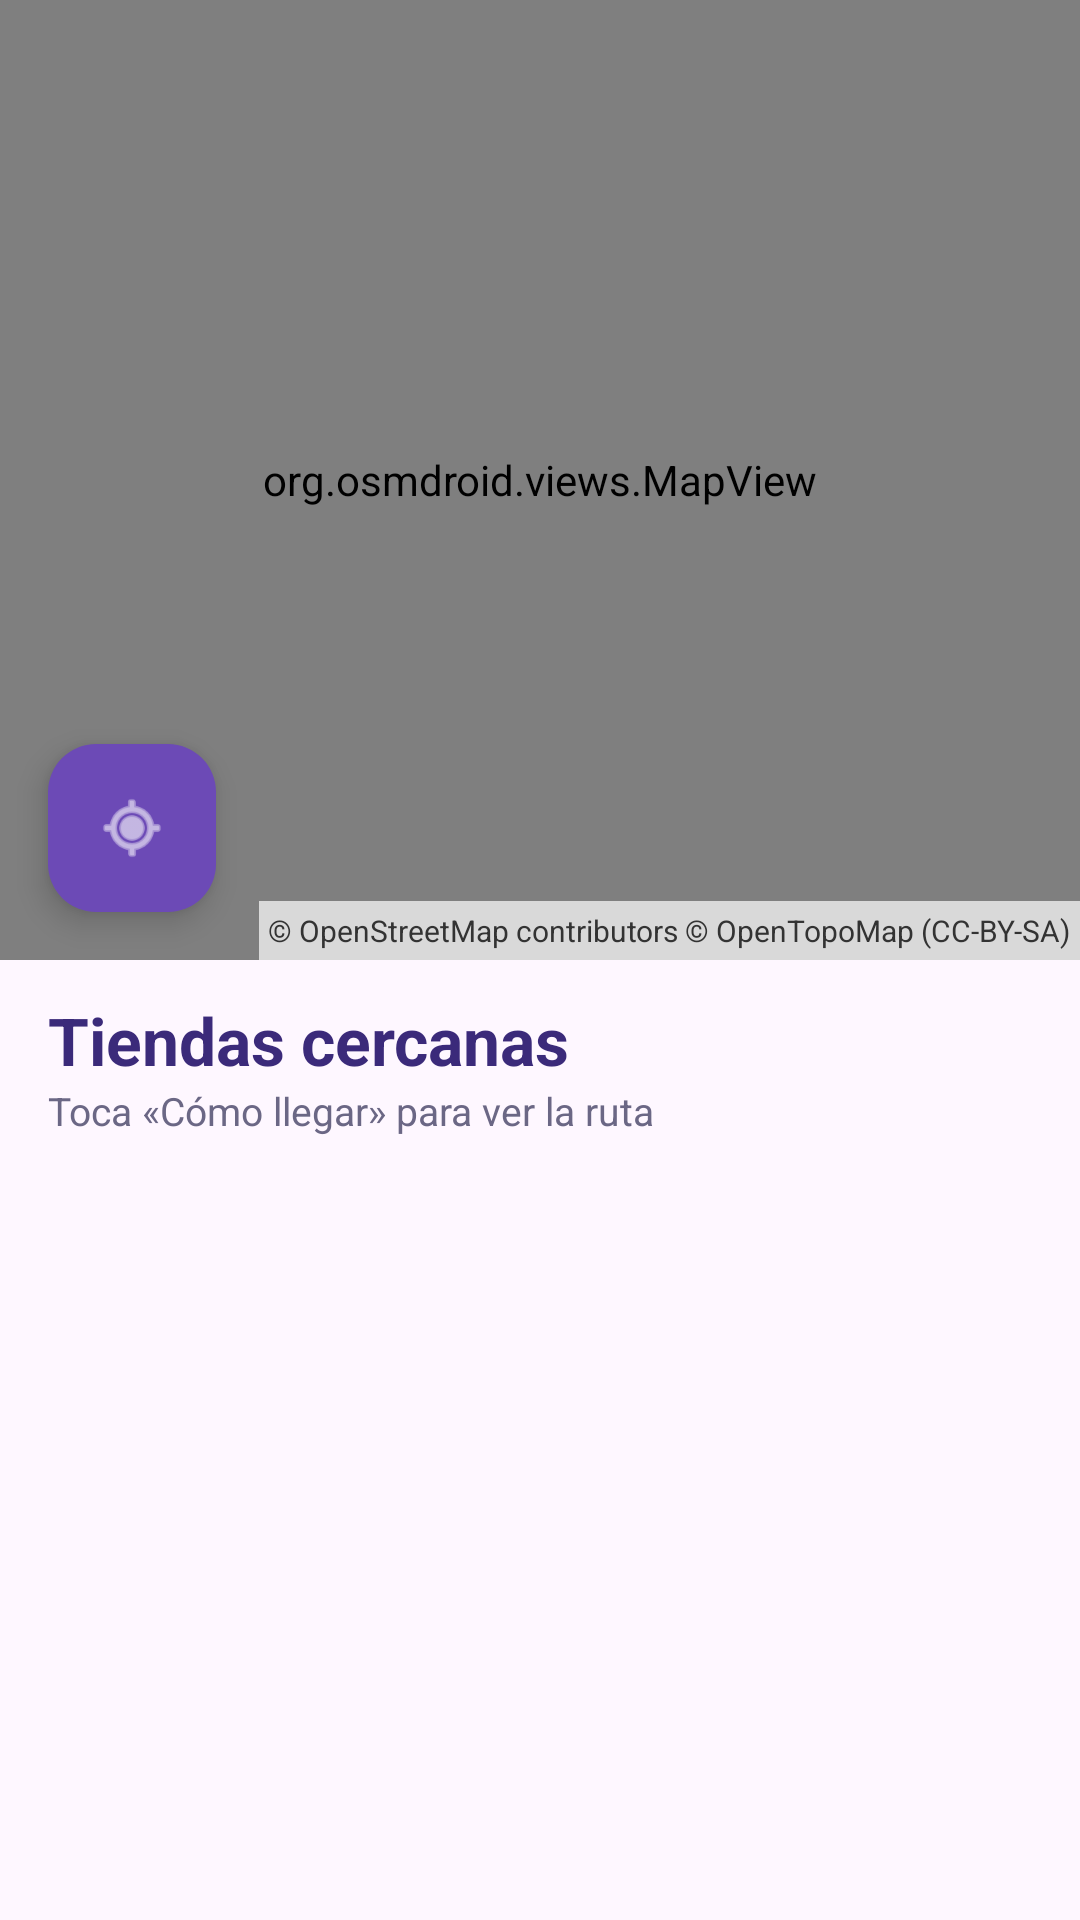

Icons on this 1080 × 1920 Android screen, each with its box as rect(x1, y1, x2, y2):
Ir a mi ubicación: rect(48, 744, 216, 912)
